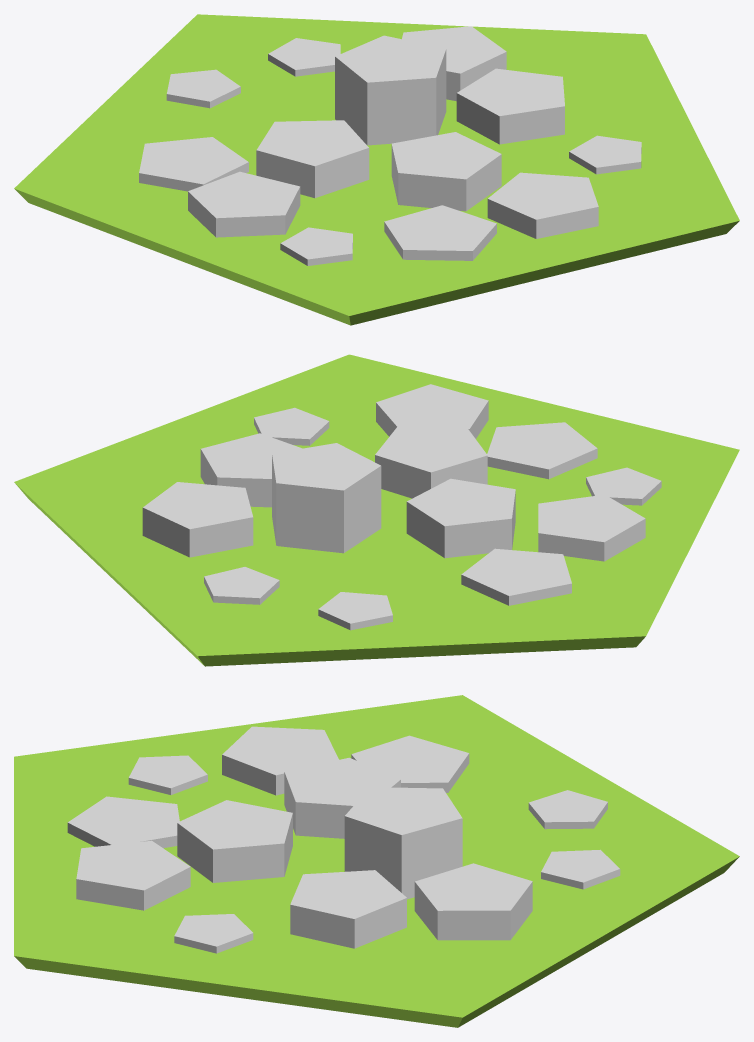
File: TuileRock3.fbx
3 views of the same model, one above another, from view 1: azimuth 30°, elevation 25°; view 2: azimuth 150°, elevation 25°; view 3: azimuth 270°, elevation 25° (orthographic). The views are drawn at different scales.
Visible parts, largest first — view 1: origine; view 2: origine; view 3: origine.
Boxes of the visible parts, x1,y1,x2,y2 form: origine: (14, 14, 739, 325); origine: (14, 354, 739, 666); origine: (14, 695, 739, 1027).
Size of the model in its own units: 111 by 13.15 by 105.
